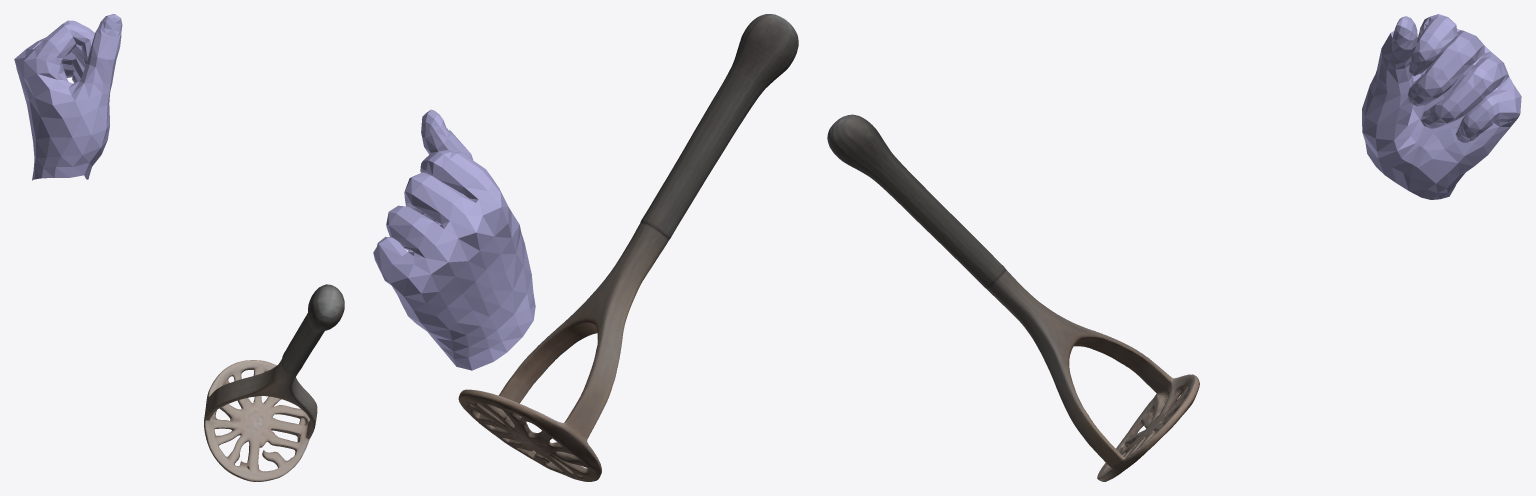
File: frame_0017_source_000017_hand_object.glb
The picture shows the model from 3 angles, left to right: view 1: azimuth 30°, elevation 25°; view 2: azimuth 150°, elevation 25°; view 3: azimuth 270°, elevation 25°; orthographic projection. The views are drawn at different scales.
Parts seen in each view (by area): view 1: world; view 2: world; view 3: world.
Boxes of the visible parts, x1,y1,x2,y2 form: world: (14,14,344,481); world: (373,14,798,481); world: (827,14,1521,481).
Size of the model in its own units: 0.121 by 0.2759 by 0.3916.
